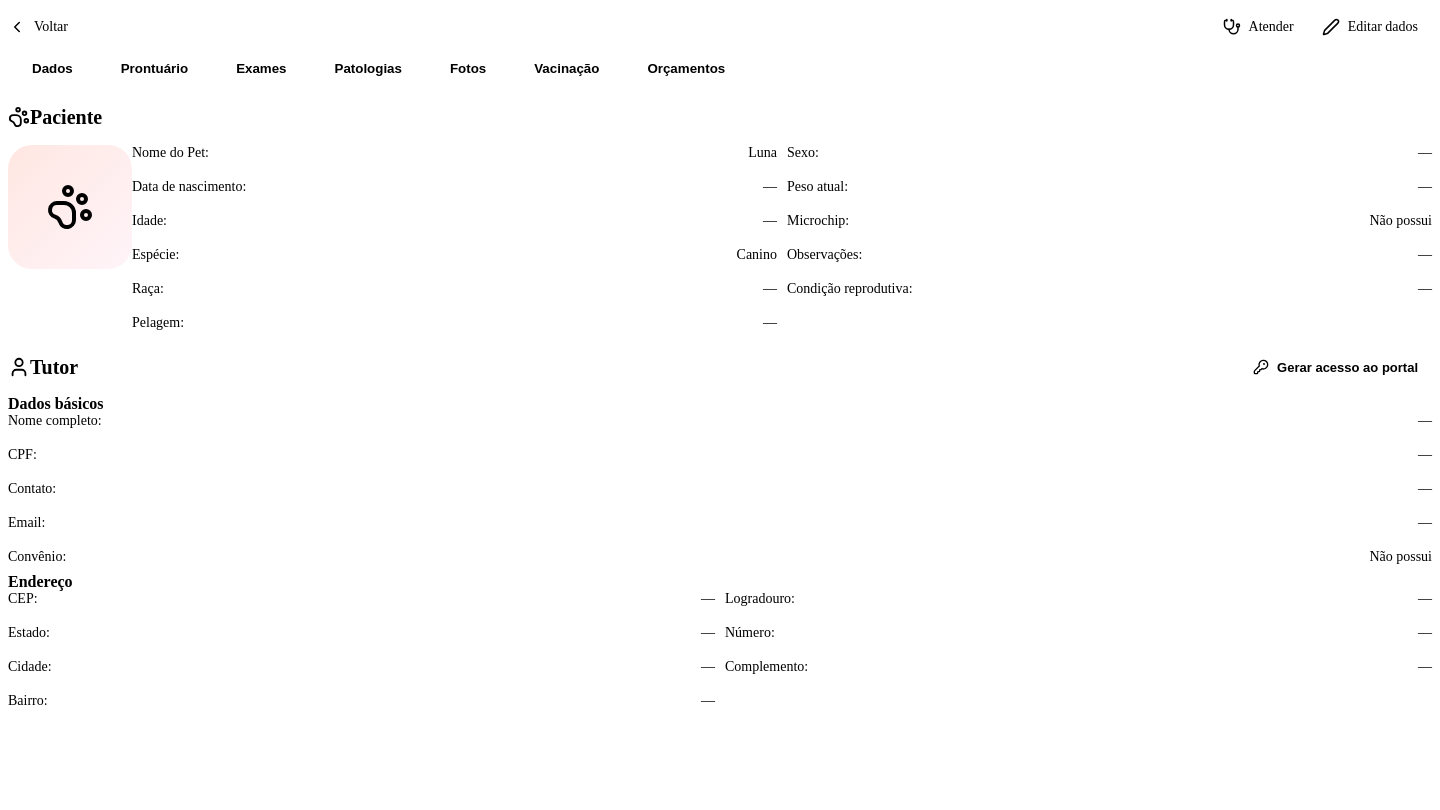
Test: PatientDetailsPage › abre a aba de orçamentos com a seção do paciente
This screenshot has width=1440, height=810.
What coordinates should you click on to do the following:
click the button "Orçamentos"
I would click on:
 (686, 68)
Its box is [623,47,749,90].
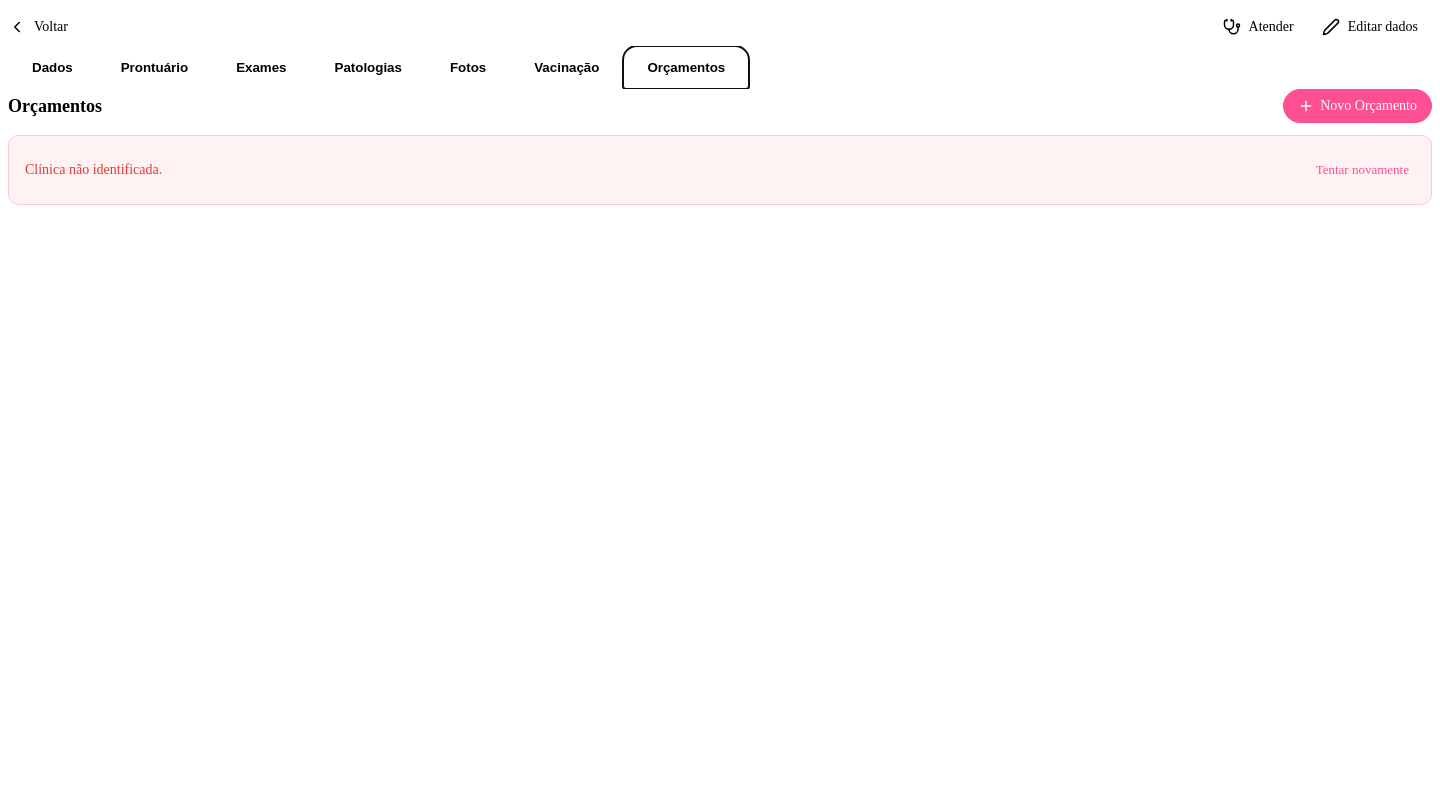
Now the element named "Orçamentos do paciente" is shown, box [8,89,1432,205]
